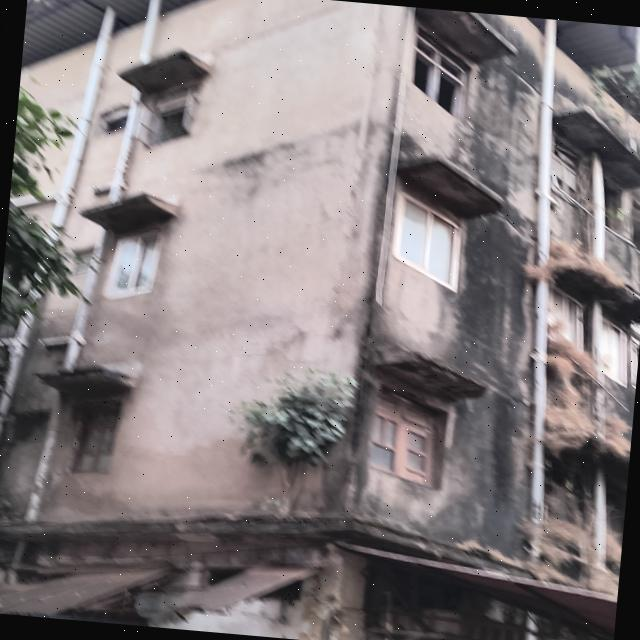Moss growth due to damping: (449, 16, 562, 563), (34, 488, 520, 573), (212, 90, 387, 196)
